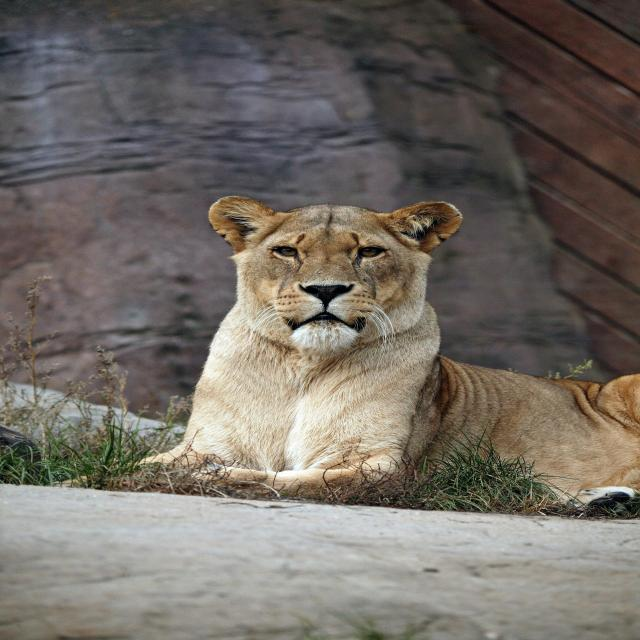Lion: (53, 194, 640, 512)
